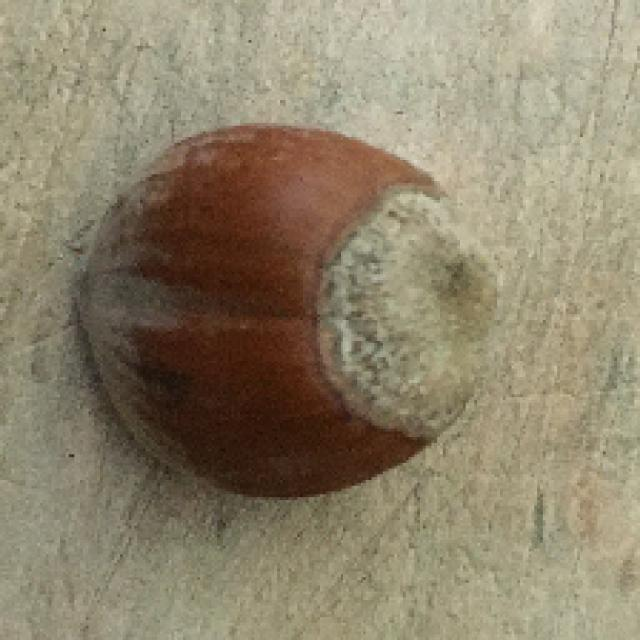qualityHazelnut: (68, 128, 505, 515)
